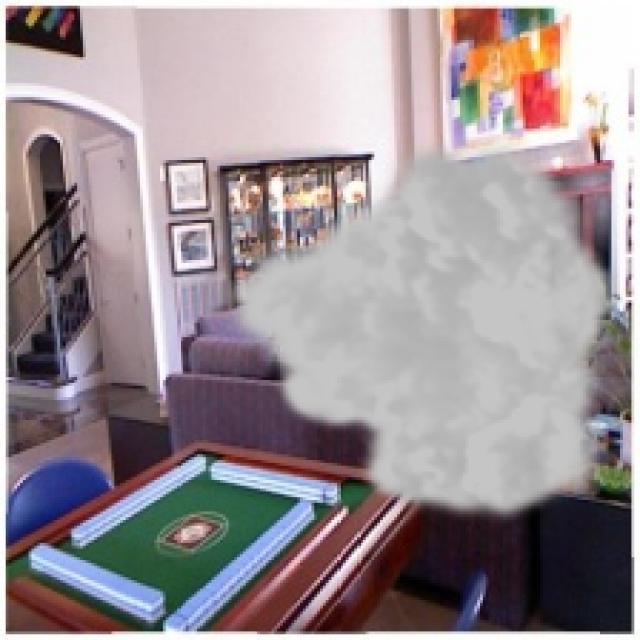Smoke: (220, 131, 620, 526)
